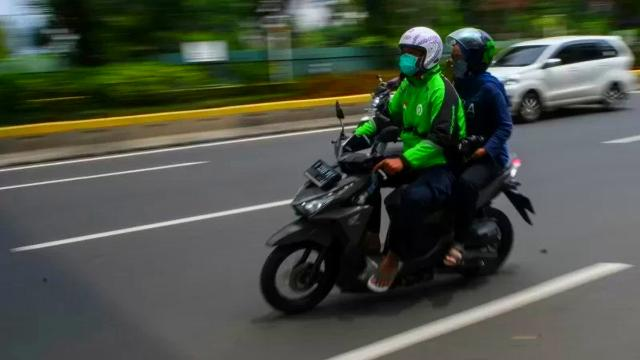helm: (447, 26, 499, 82), (398, 26, 445, 79)
motor: (257, 99, 538, 317)
